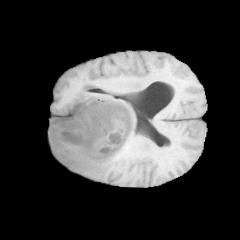glioma: (48, 90, 134, 177)
